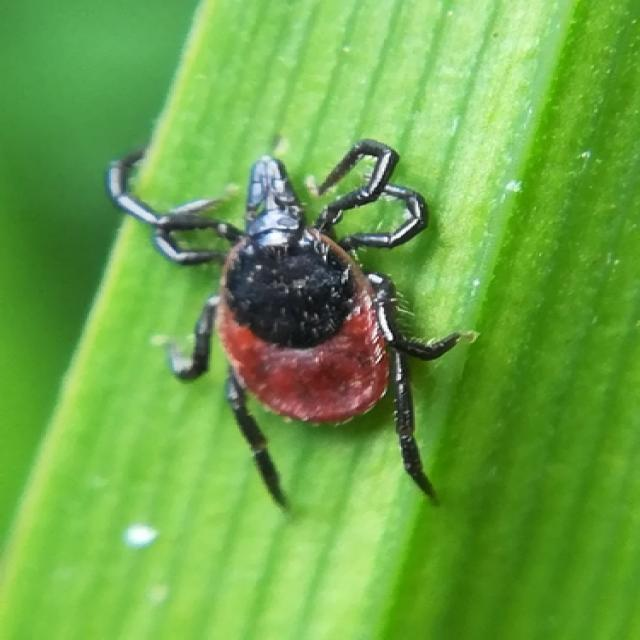Ixodes Ricinus-F: (104, 140, 478, 512)
